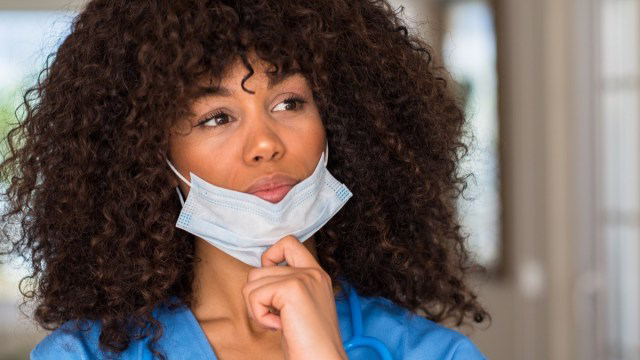mask_weared_incorrect: (176, 63, 335, 265)
